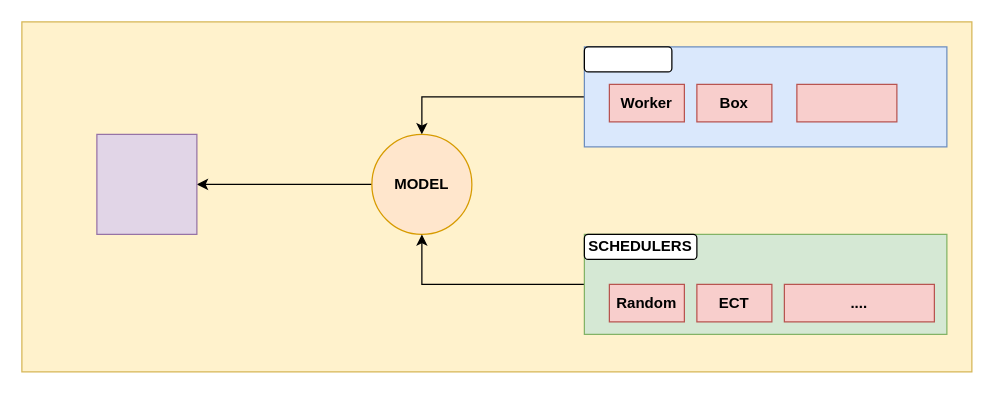
This 994x394 diagram has some shape labels left out. The shapes that lost their labels are listed below. From the top down, each one's centre as x and y in pixels, then its label:
pixel 627 59: AGENTS
pixel 846 102: Destination
pixel 146 183: SERVER
